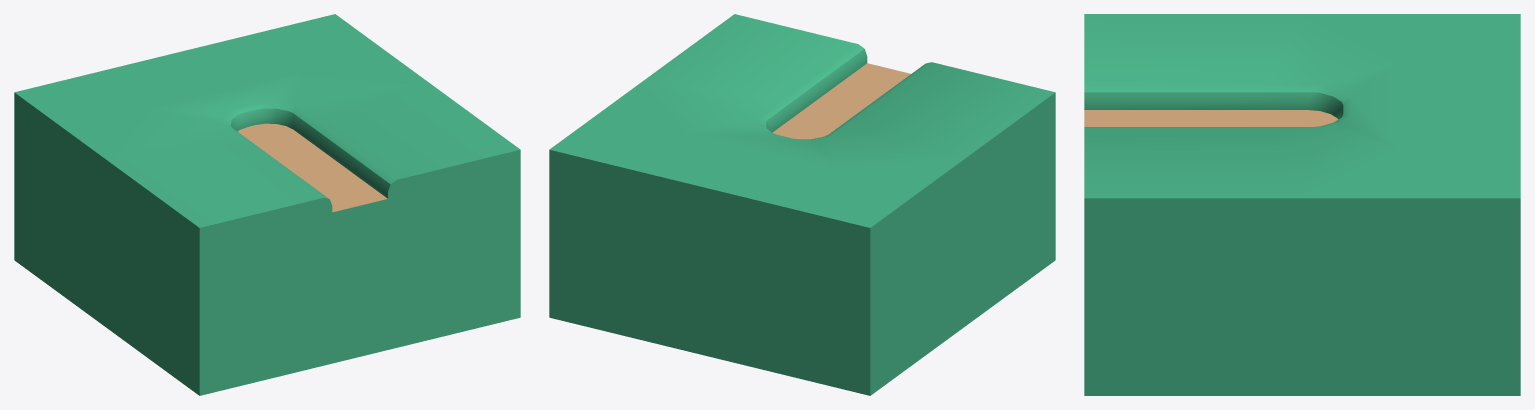
Rendered from kaykit-square-forest-roada.glb.
The picture shows the model from 3 angles, left to right: view 1: azimuth 30°, elevation 25°; view 2: azimuth 150°, elevation 25°; view 3: azimuth 270°, elevation 25°; orthographic projection. The views are drawn at different scales.
Visible parts, largest first — view 1: square_forest_roadA; view 2: square_forest_roadA; view 3: square_forest_roadA.
Part boxes in pixels (x1,y1,x2,y2): square_forest_roadA: (14, 14, 520, 395); square_forest_roadA: (549, 14, 1055, 395); square_forest_roadA: (1084, 14, 1520, 395).
Bounding box in the file's own units: 2 × 0.9998 × 2.
